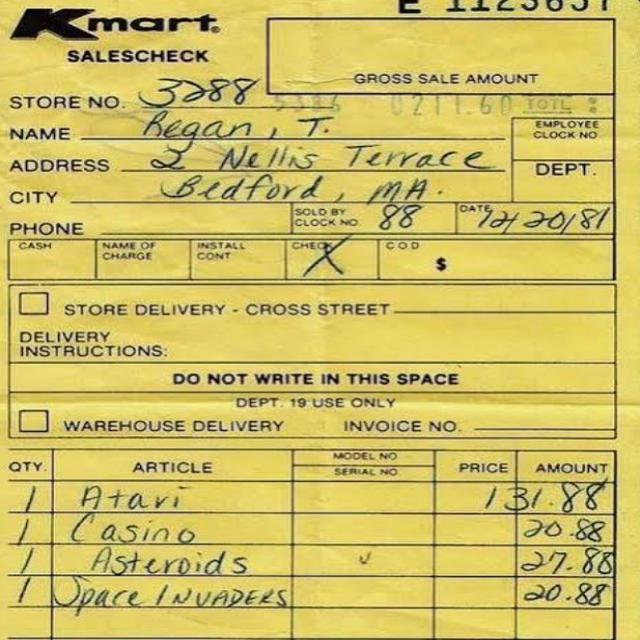address: (9, 148, 516, 206)
date: (446, 202, 633, 247)
items: (0, 442, 625, 634)
shop: (0, 3, 272, 73)
